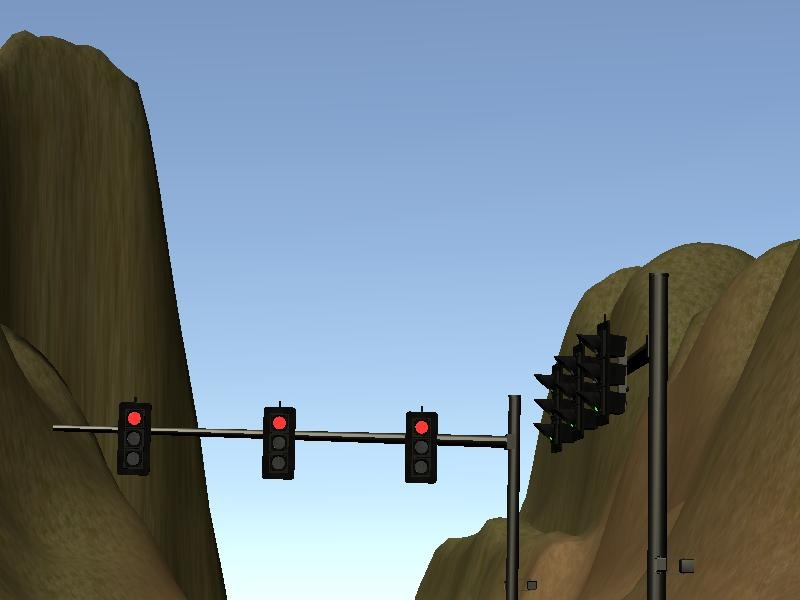RED: (404, 412, 437, 482), (260, 408, 293, 478), (117, 403, 150, 473)
